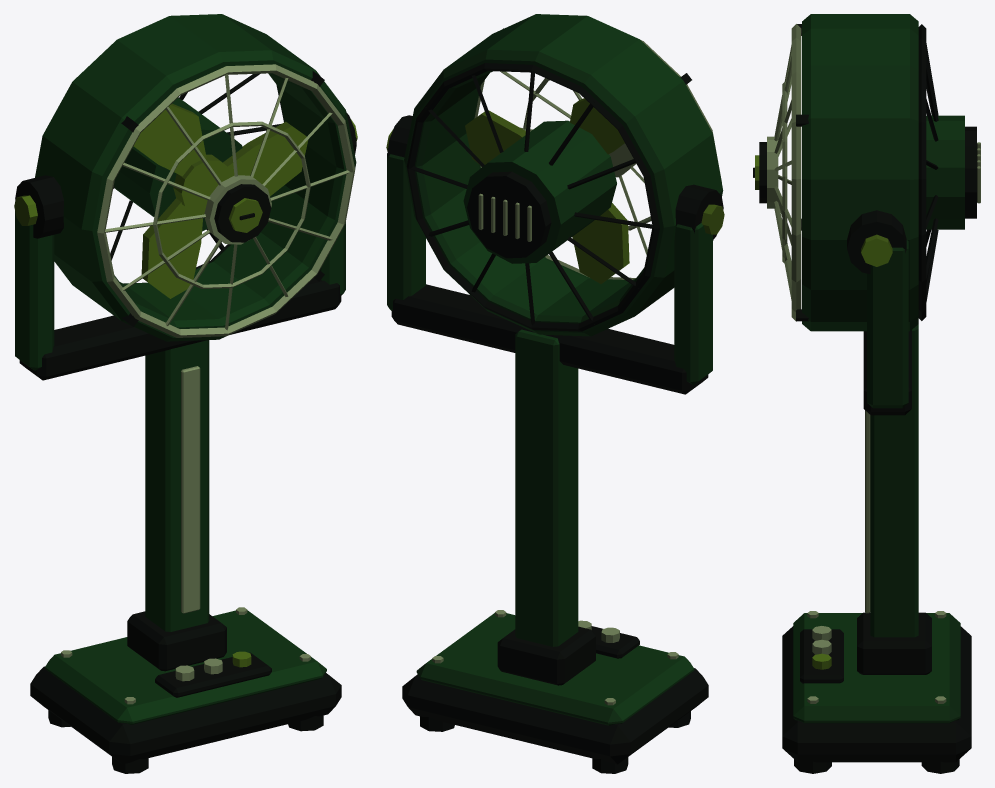
Rendered from Fan.fbx.
3 renders of one model, left to right at view 1: azimuth 30°, elevation 25°; view 2: azimuth 150°, elevation 25°; view 3: azimuth 270°, elevation 25°, orthographic.
Parts seen in each view (by area): view 1: Housing, Rotor; view 2: Housing, Rotor; view 3: Housing.
Boxes of the visible parts, bbox=[...] form: Housing: bbox=[14, 14, 357, 773]; Rotor: bbox=[133, 103, 308, 298]; Housing: bbox=[386, 14, 724, 773]; Rotor: bbox=[465, 98, 629, 283]; Housing: bbox=[753, 14, 980, 773].
Bounding box in the file's own units: 86.1 × 174 × 51.8.
